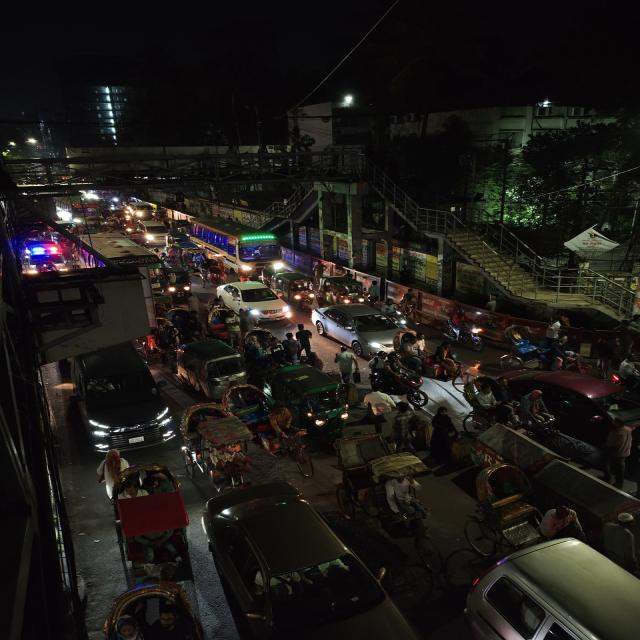bus: (185, 215, 285, 269)
car: (200, 484, 419, 640), (462, 535, 640, 640), (62, 338, 174, 454), (512, 364, 632, 435), (312, 304, 413, 354), (216, 280, 291, 324), (134, 219, 171, 245)
cng: (270, 363, 347, 427), (176, 338, 247, 394), (276, 271, 321, 307), (325, 276, 368, 304), (167, 269, 194, 302)
motorcycle: (372, 352, 428, 408), (425, 343, 474, 387), (452, 316, 488, 352), (605, 355, 640, 390)
pedestrian: (600, 509, 640, 581), (387, 402, 418, 452), (426, 405, 458, 445), (363, 387, 391, 429), (586, 338, 616, 377), (446, 433, 476, 465), (334, 348, 359, 384), (295, 325, 315, 353)
rickshaw: (330, 436, 440, 548), (456, 460, 578, 560), (98, 458, 194, 584), (180, 401, 254, 491), (244, 401, 318, 476), (206, 304, 242, 342), (198, 258, 228, 286)
